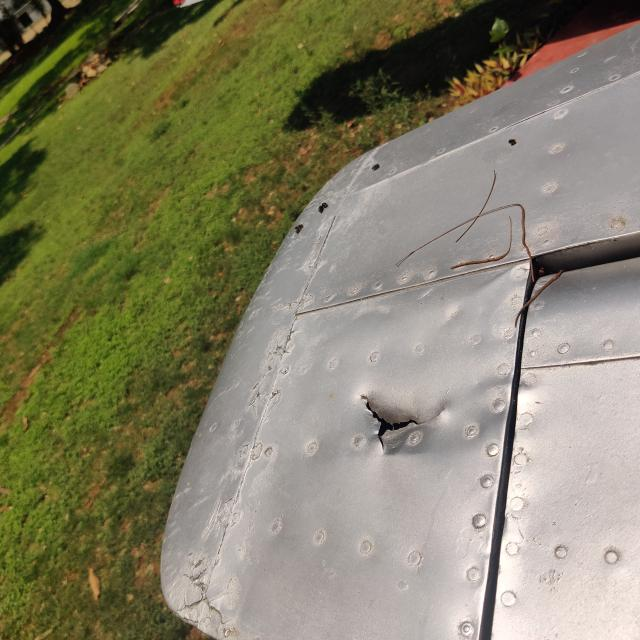crack: (352, 385, 458, 462)
